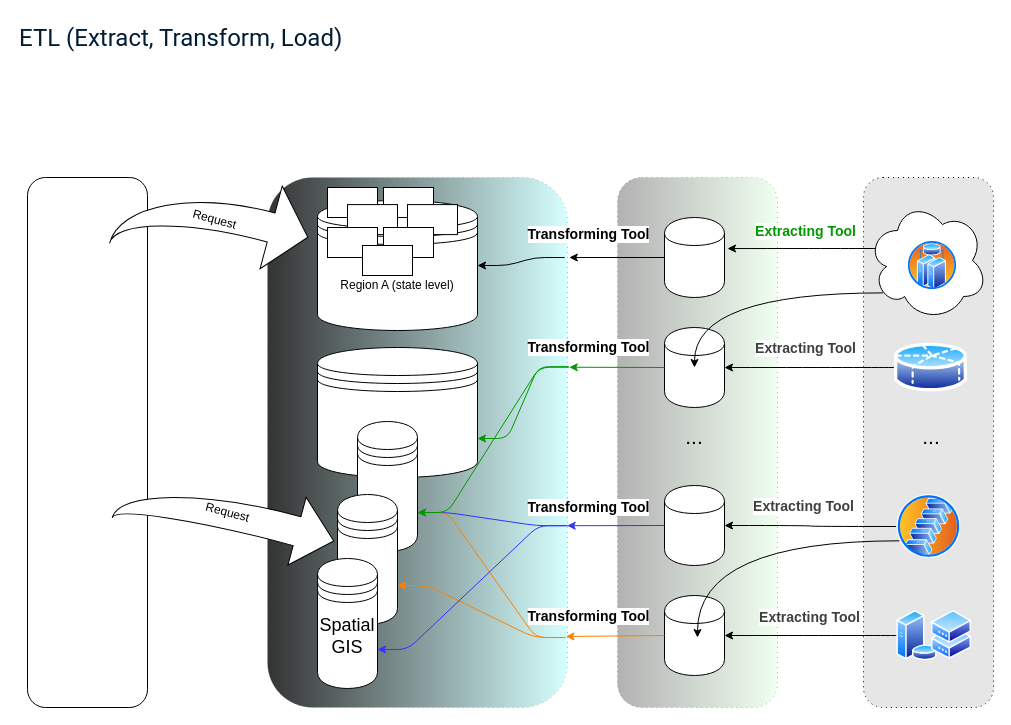
Some shapes in this 1011 by 725 pixel diagram are drawn without their labels. The centre of each missing label's shape, as x and y in pixels:
"Demand" goes at [397,412].
"Signal" goes at [387,486].
